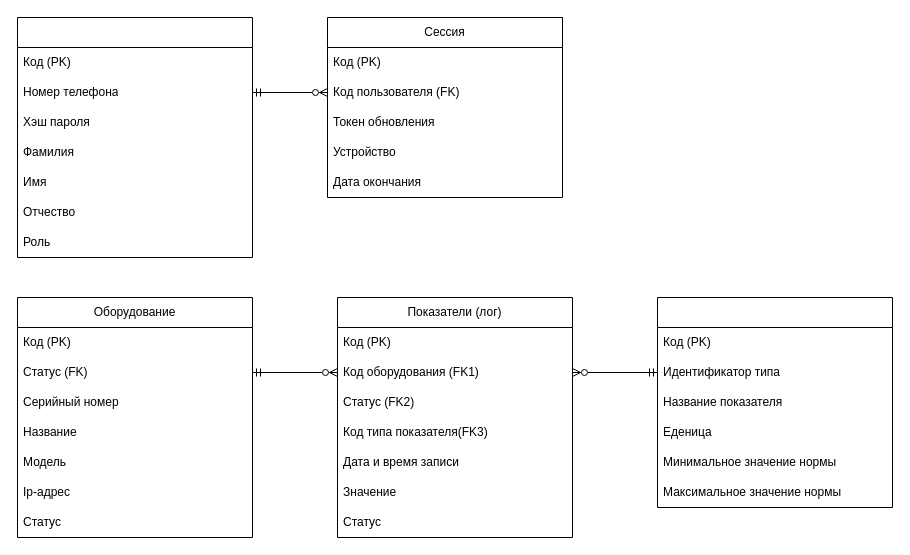
This 910x555 diagram has some shape labels left out. The shapes that lost their labels are listed below. From the top down, each one's box as (x1, y1, x2, y2) in pixels, then its label:
(16, 16, 252, 258): Пользователь
(656, 296, 892, 508): Тип показателя
